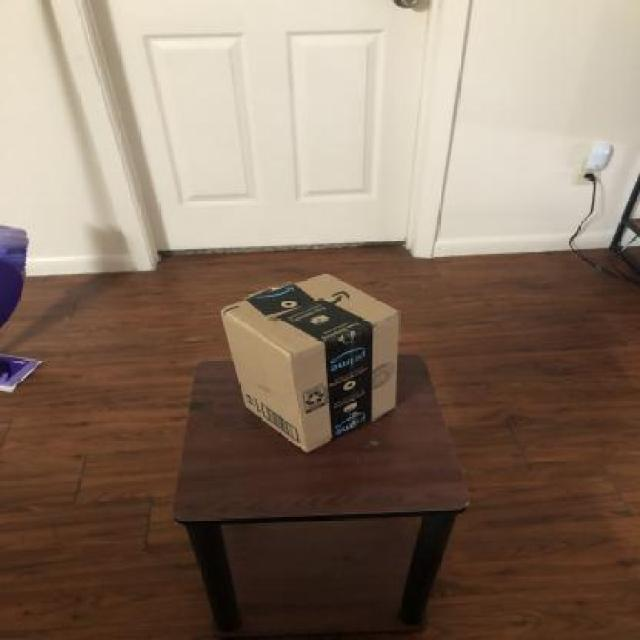box: (221, 268, 403, 453)
